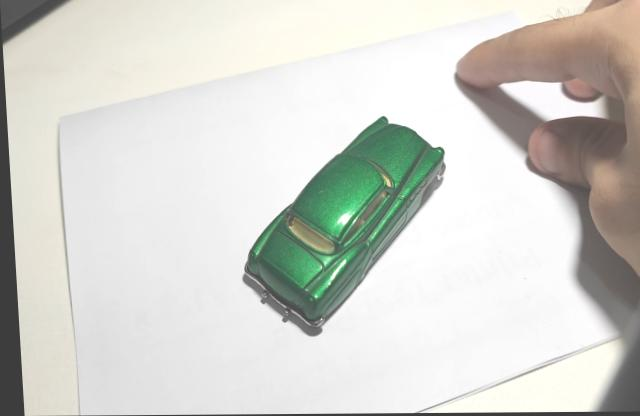06_MASERATI: (239, 118, 445, 338)
